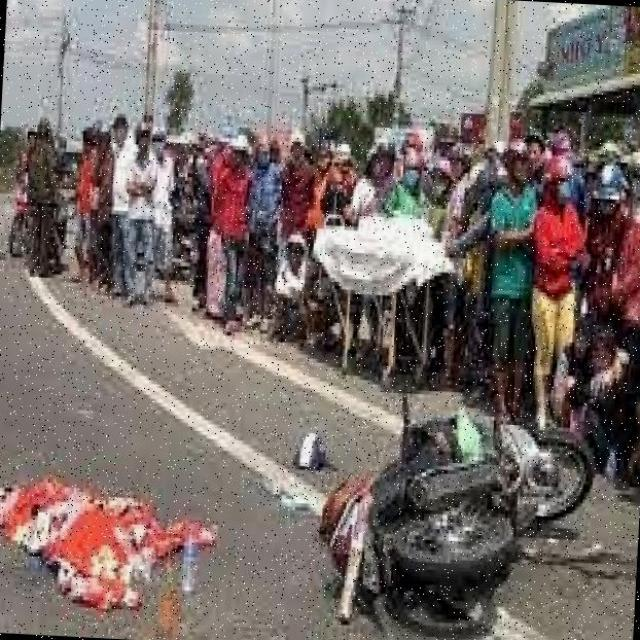accident: (303, 361, 601, 639)
